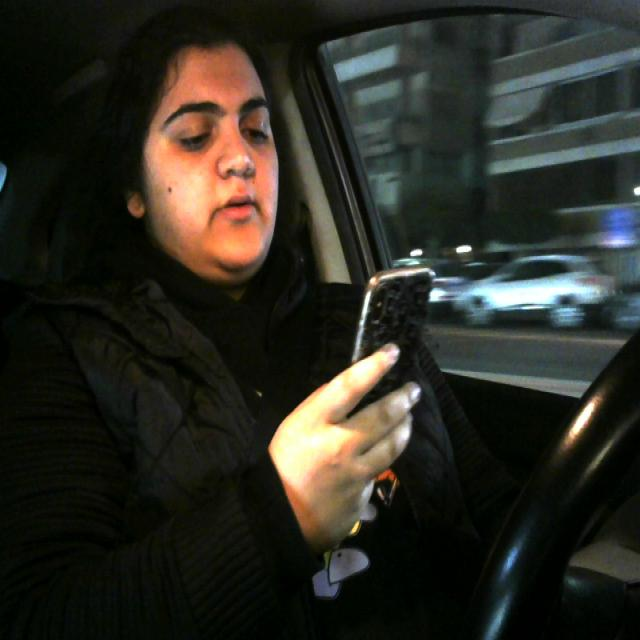mobile use: (345, 255, 437, 463)
